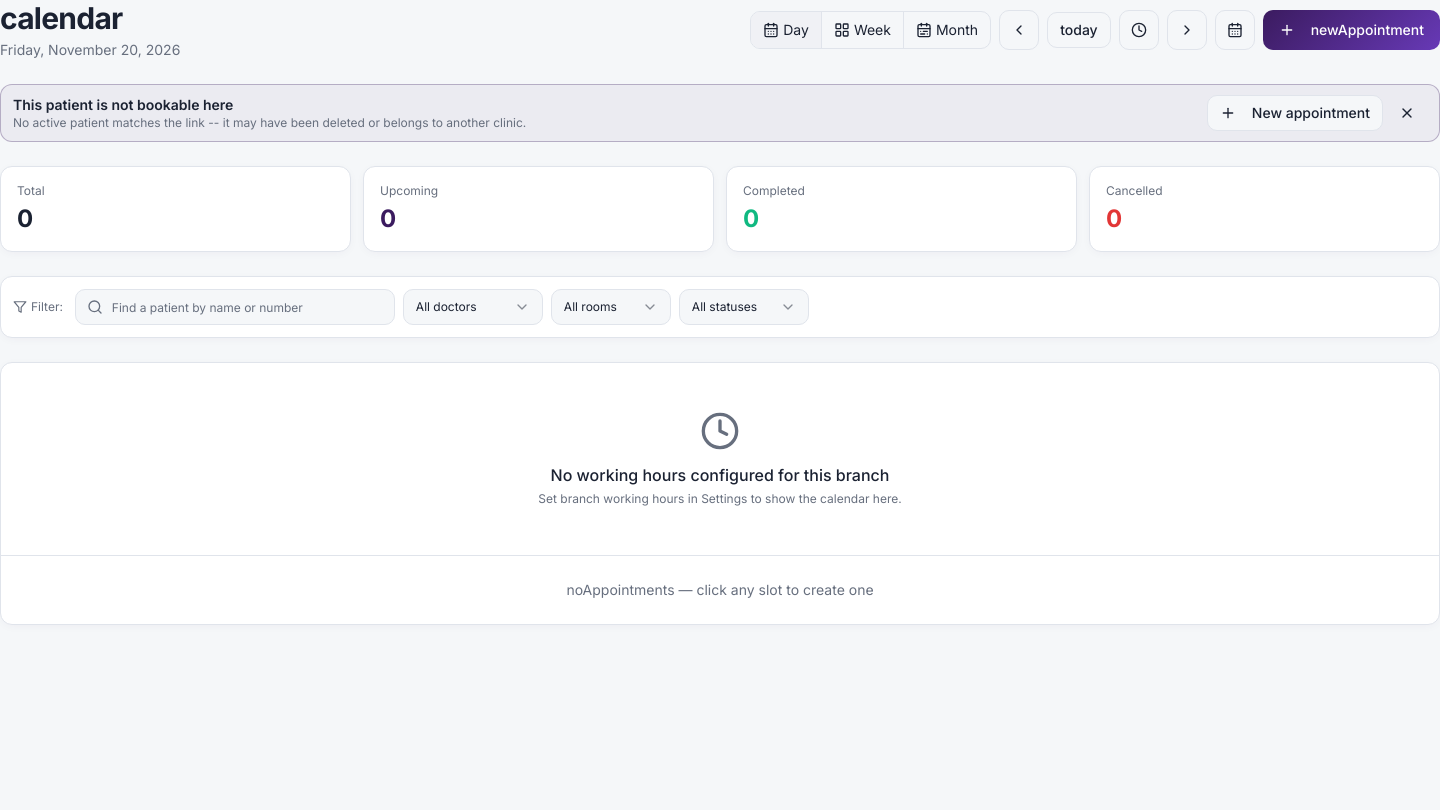
Test: CalendarPage ?patient_id= deep link › refuses to prefill a patient the database says is not there
Later steps or results of the test are not shown.
Expected: the button "today" is shown, x1=1047 y1=12 x2=1111 y2=48
Expected: the text "This patient is not bookable here" is shown, x1=13 y1=96 x2=233 y2=113
Click the button "New appointment".
click(1295, 113)  # box x1=1207 y1=95 x2=1383 y2=131
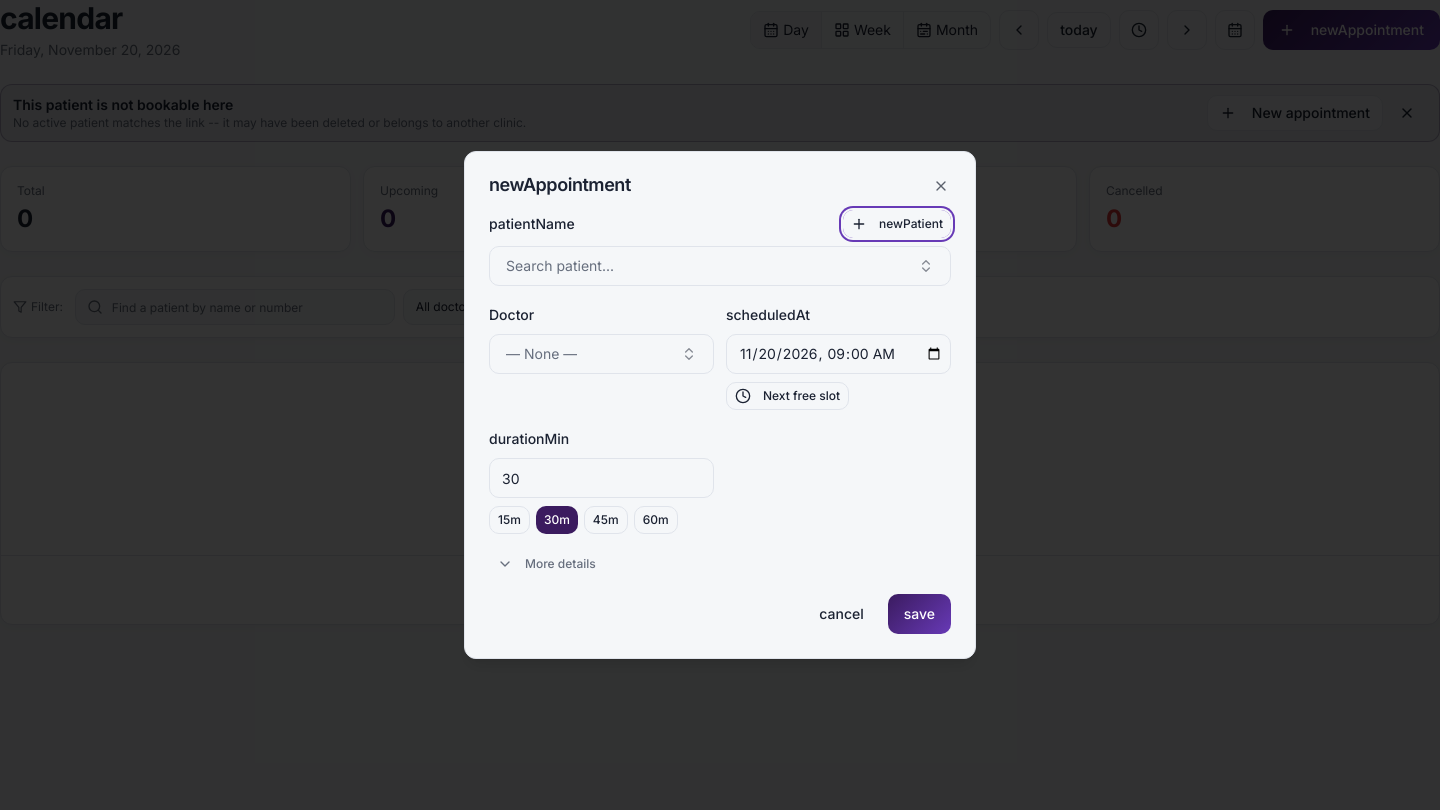
Result: the text "Search patient..." is shown at x1=506 y1=256 x2=614 y2=276
